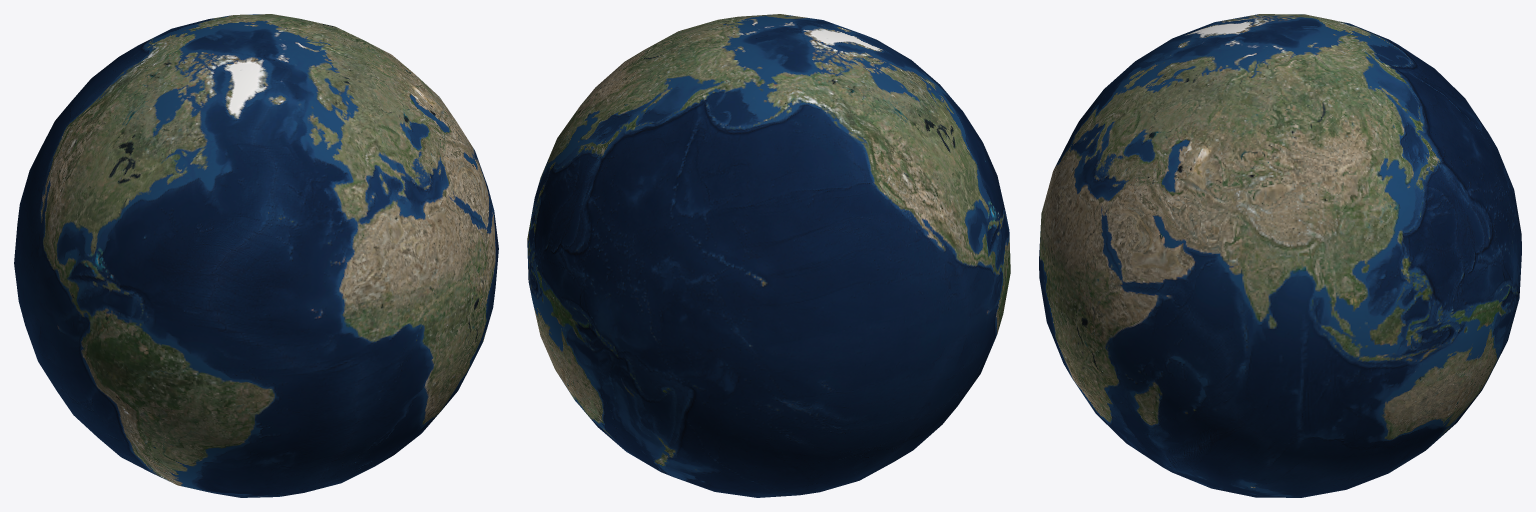
The model's file is earth.glb.
The picture shows the model from 3 angles, left to right: view 1: azimuth 30°, elevation 25°; view 2: azimuth 150°, elevation 25°; view 3: azimuth 270°, elevation 25°; orthographic projection.
Visible parts, largest first — view 1: Atmosphere; view 2: Atmosphere; view 3: Atmosphere.
Boxes of the visible parts, <box> form: Atmosphere: <box>14,14,498,497</box>; Atmosphere: <box>527,14,1010,497</box>; Atmosphere: <box>1039,14,1521,497</box>.
Size of the model in its own units: 6.39 by 6.41 by 6.39.
Materials: 4 (1 with a texture image).
